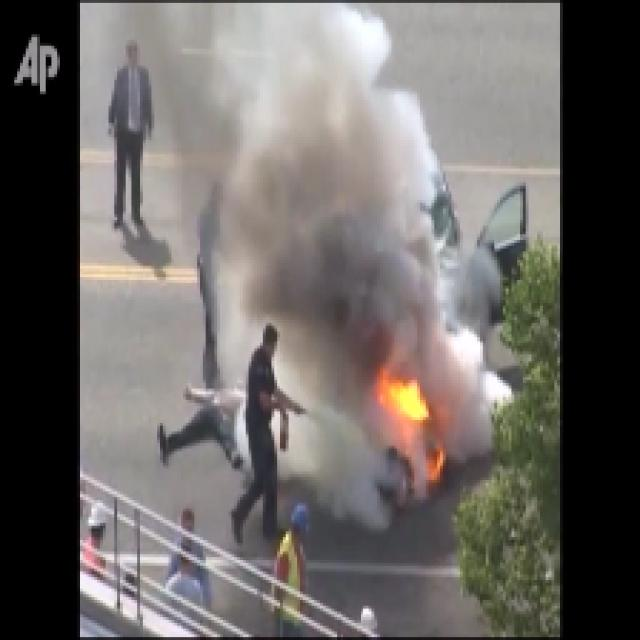smoke: (222, 17, 391, 396), (437, 323, 516, 452), (302, 418, 363, 517)
